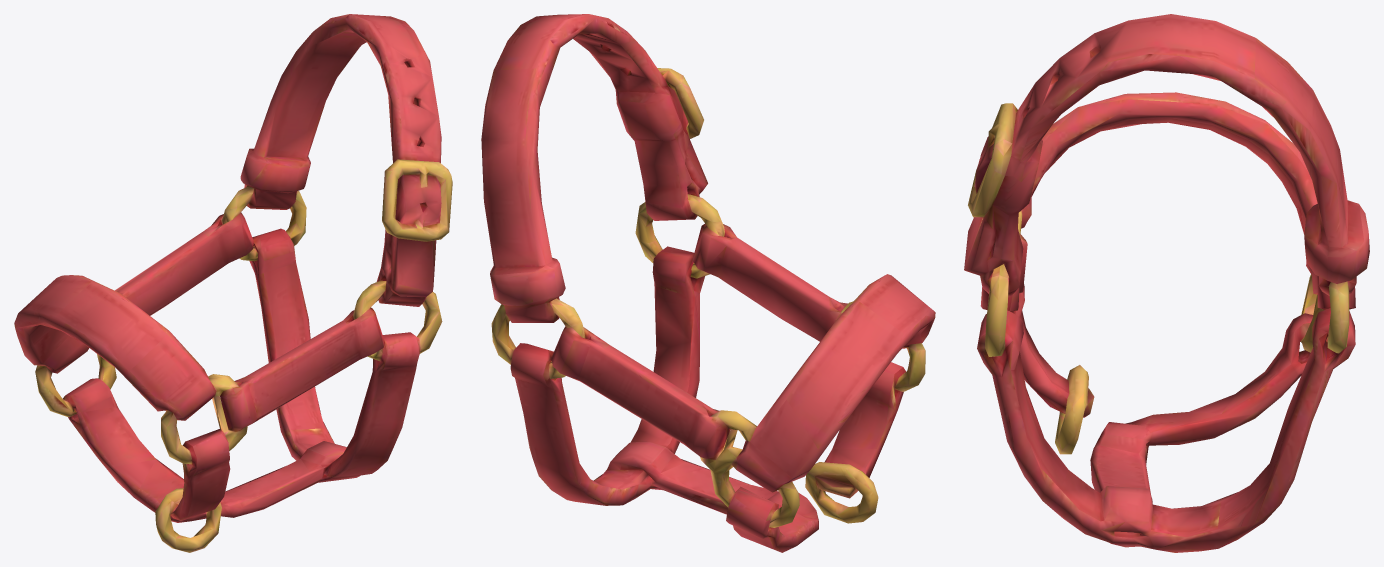
The picture shows the model from 3 angles, left to right: view 1: azimuth 30°, elevation 25°; view 2: azimuth 150°, elevation 25°; view 3: azimuth 270°, elevation 25°; orthographic projection. The views are drawn at different scales.
Visible parts, largest first — view 1: halter; view 2: halter; view 3: halter.
Boxes of the visible parts, x1,y1,x2,y2 form: halter: (14, 14, 452, 552); halter: (481, 14, 935, 552); halter: (964, 14, 1369, 552).
Size of the model in its own units: 0.2612 by 0.3122 by 0.2015.
Materials: 1 (1 with a texture image).
